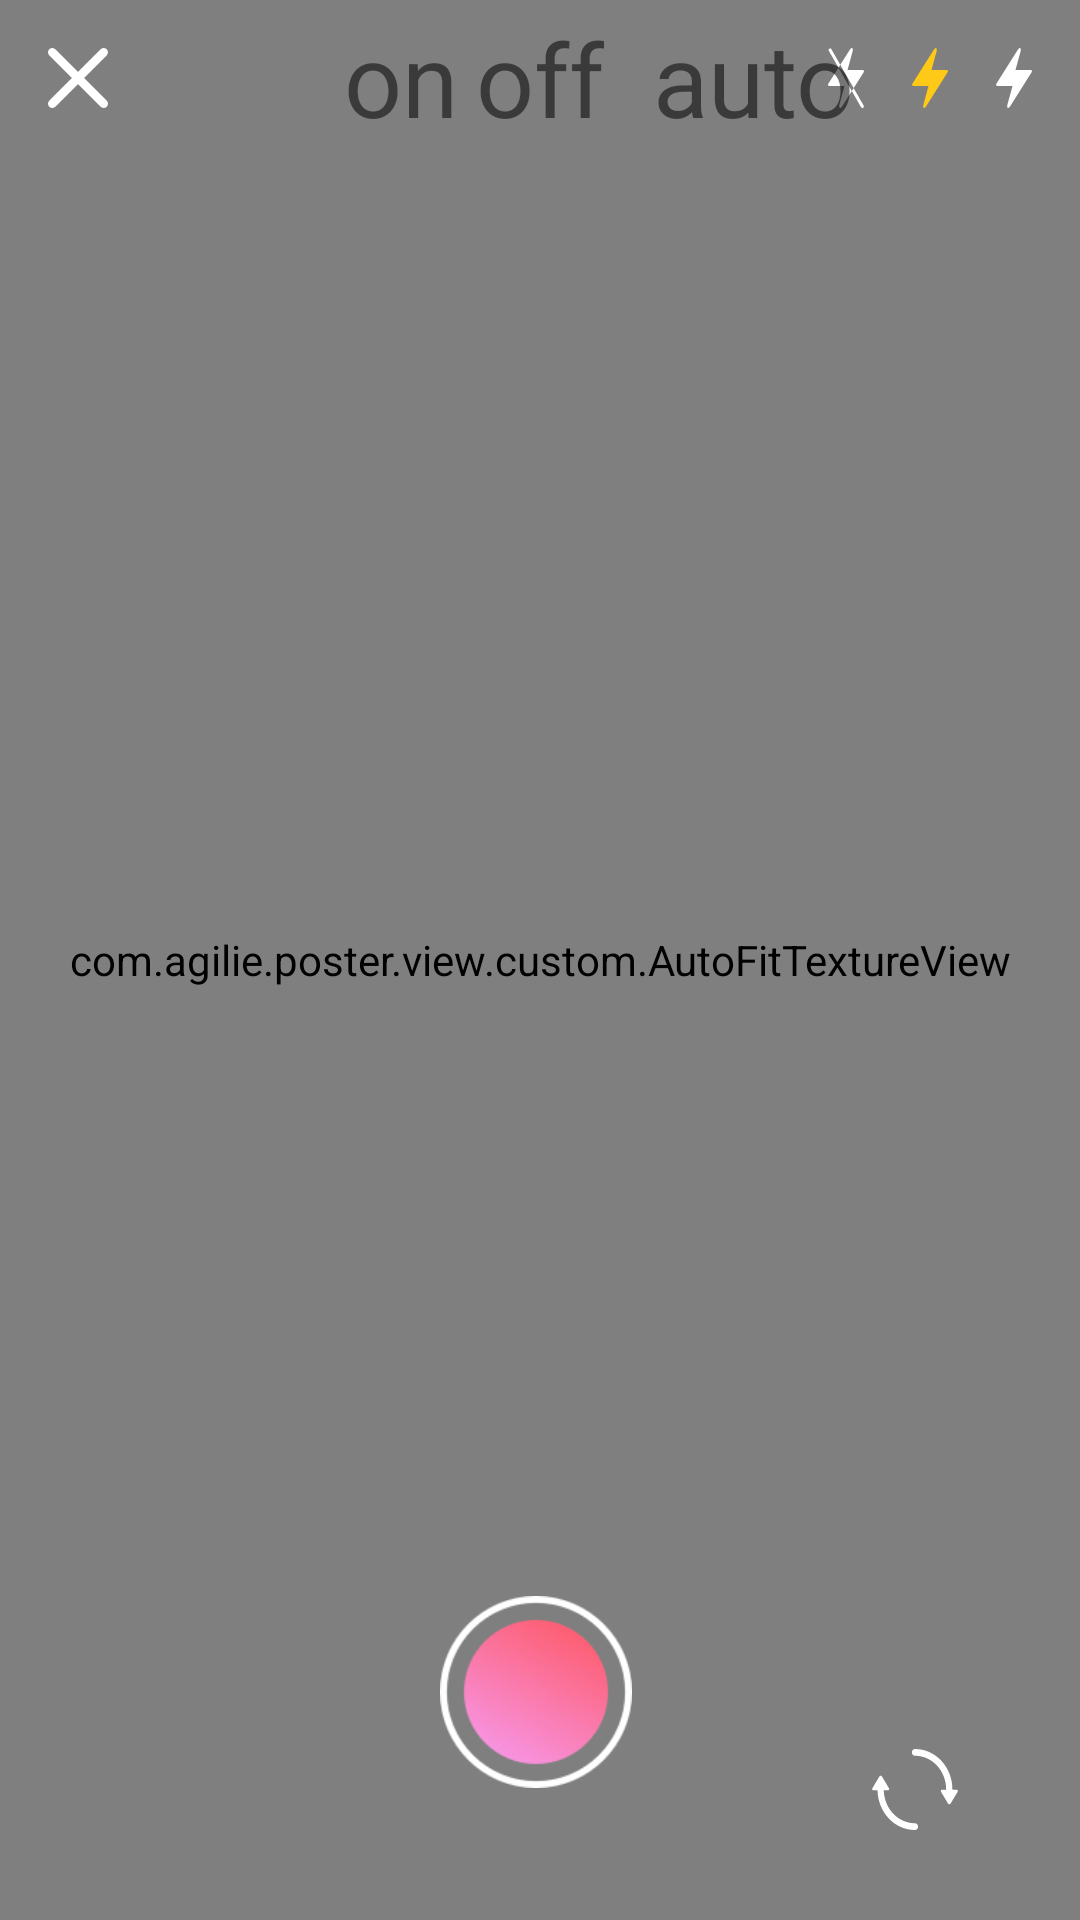

Screen size 1080w x 1920h. Icon name, then its box in pixels as [x1, y1, x2, y2]:
change cam: [872, 1749, 958, 1830]
close: [48, 48, 108, 108]
flash off: [828, 48, 864, 108]
snap: [440, 1596, 632, 1788]
